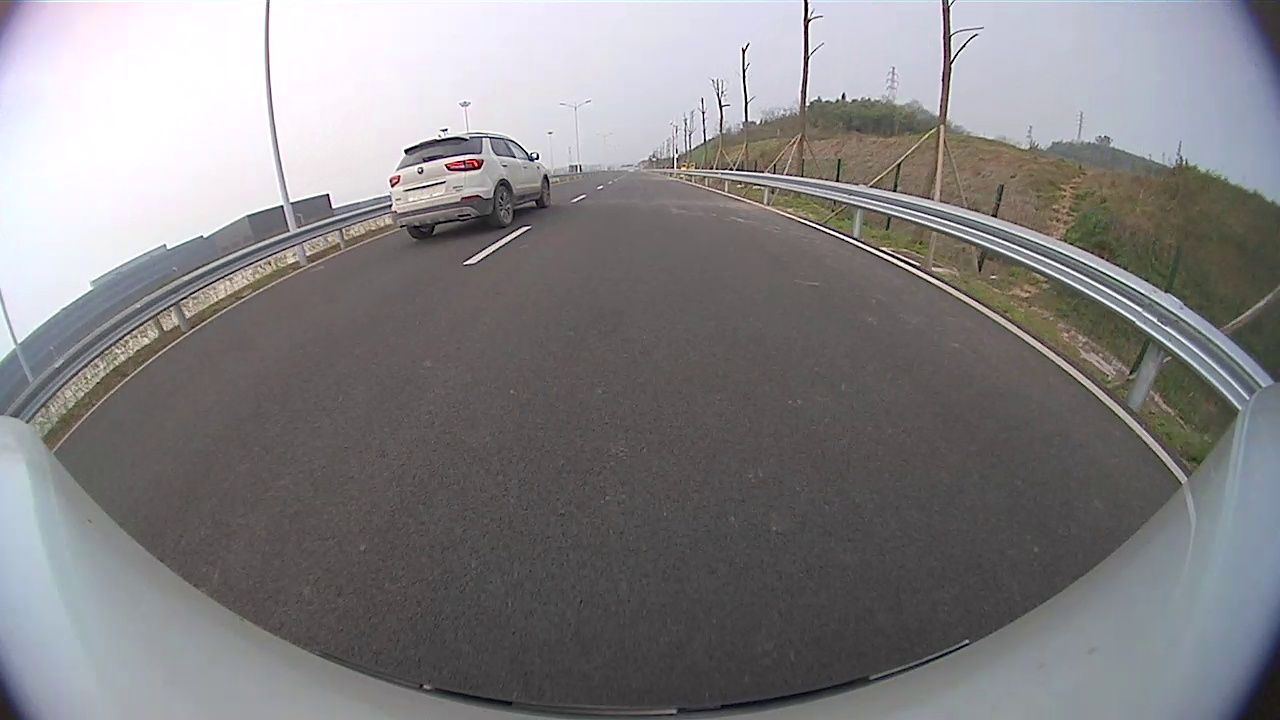car: (388, 132, 554, 241)
front: (541, 174, 551, 210)
rear: (492, 184, 515, 229)
